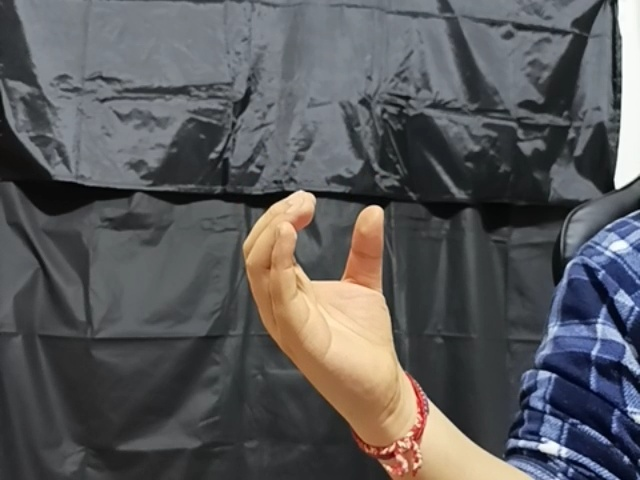C: (240, 199, 415, 391)
